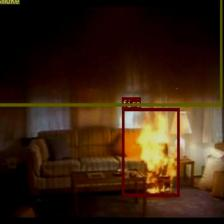fire: (122, 107, 179, 196)
smoke: (0, 0, 222, 106)
